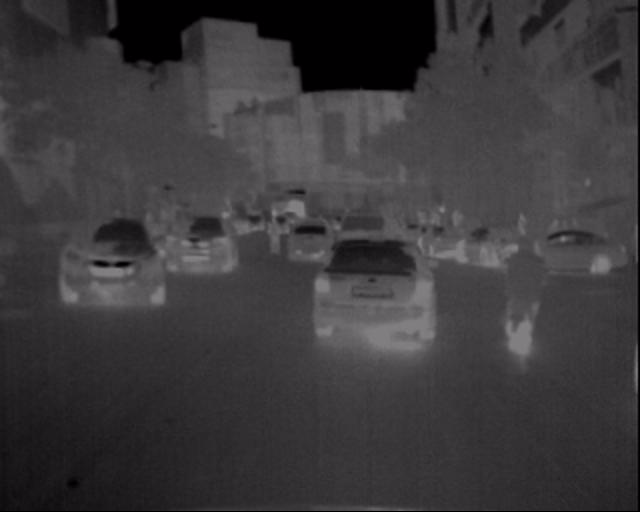person: (501, 230, 547, 328), (268, 215, 288, 256), (514, 208, 534, 243)
